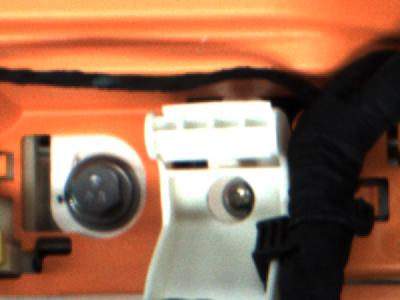nut_b: (62, 157, 140, 230)
